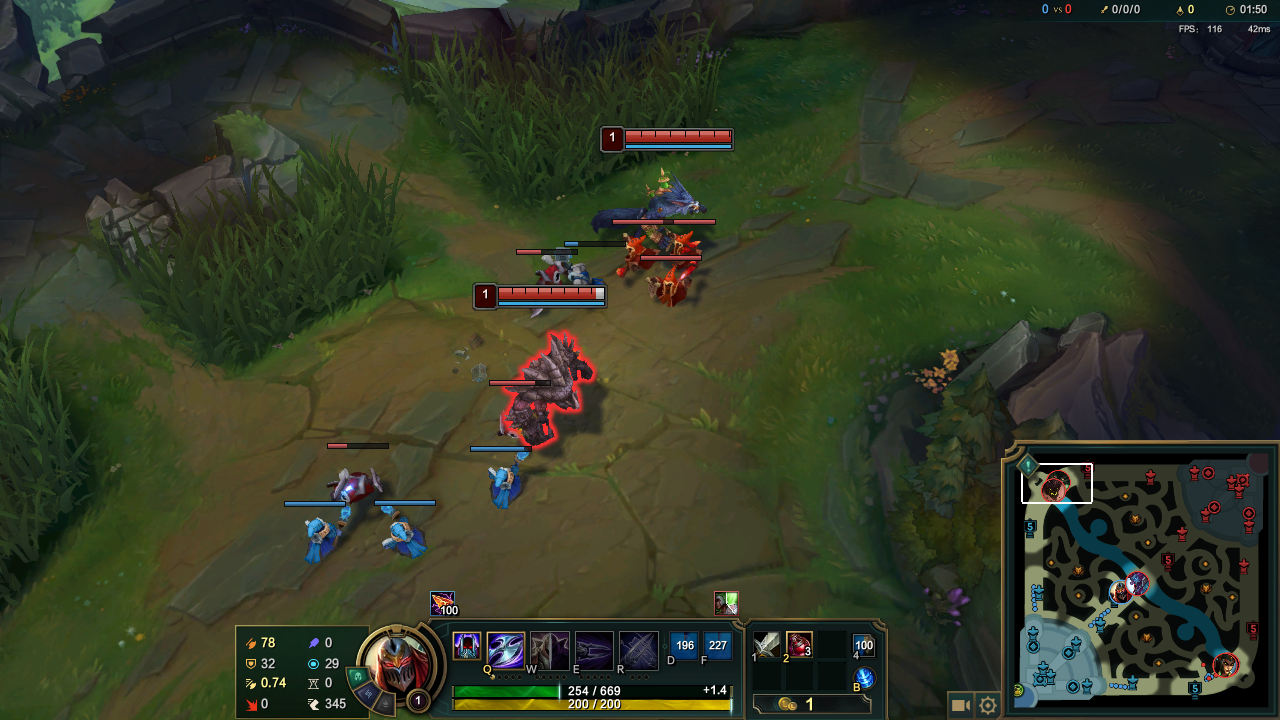DFYX: (625, 129, 732, 142), (497, 288, 604, 299)
Yita: (1184, 672, 1204, 696)
